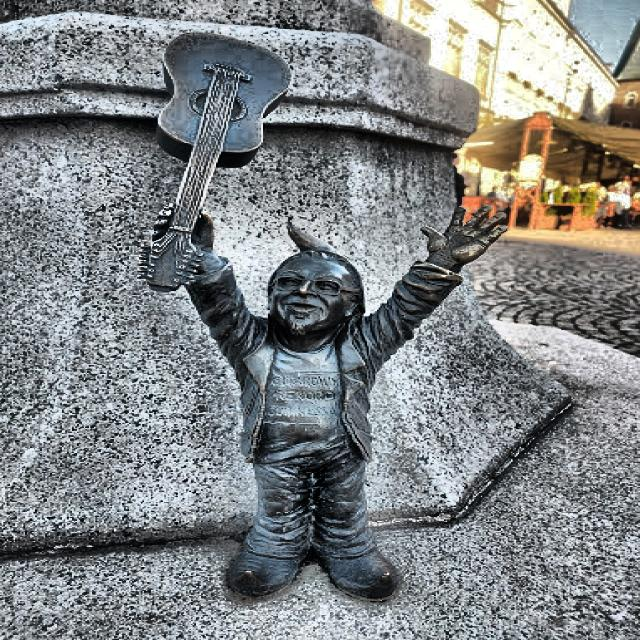Leszko_z_Wroclawia: (149, 35, 509, 602)
